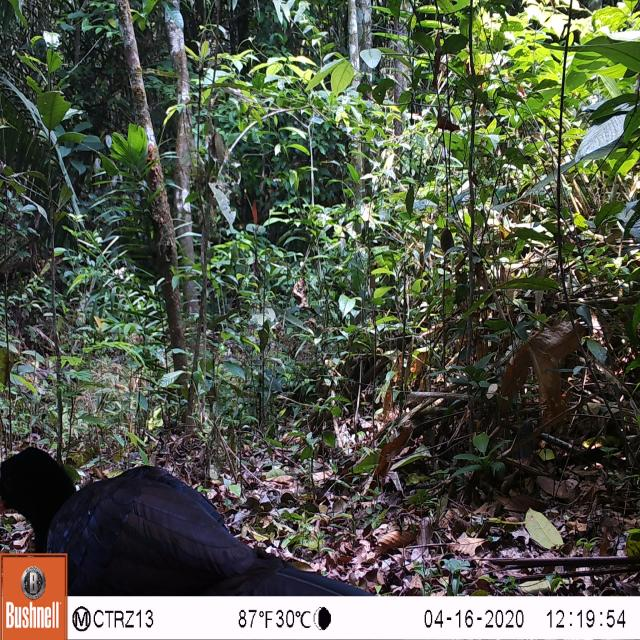Salvins Curassow: (0, 430, 399, 598)
